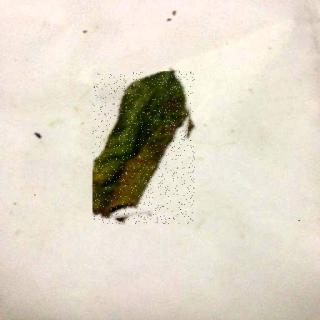Red Leaf Spot: (94, 73, 196, 225)
